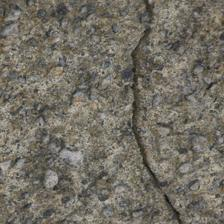Crack: (64, 2, 119, 220)
